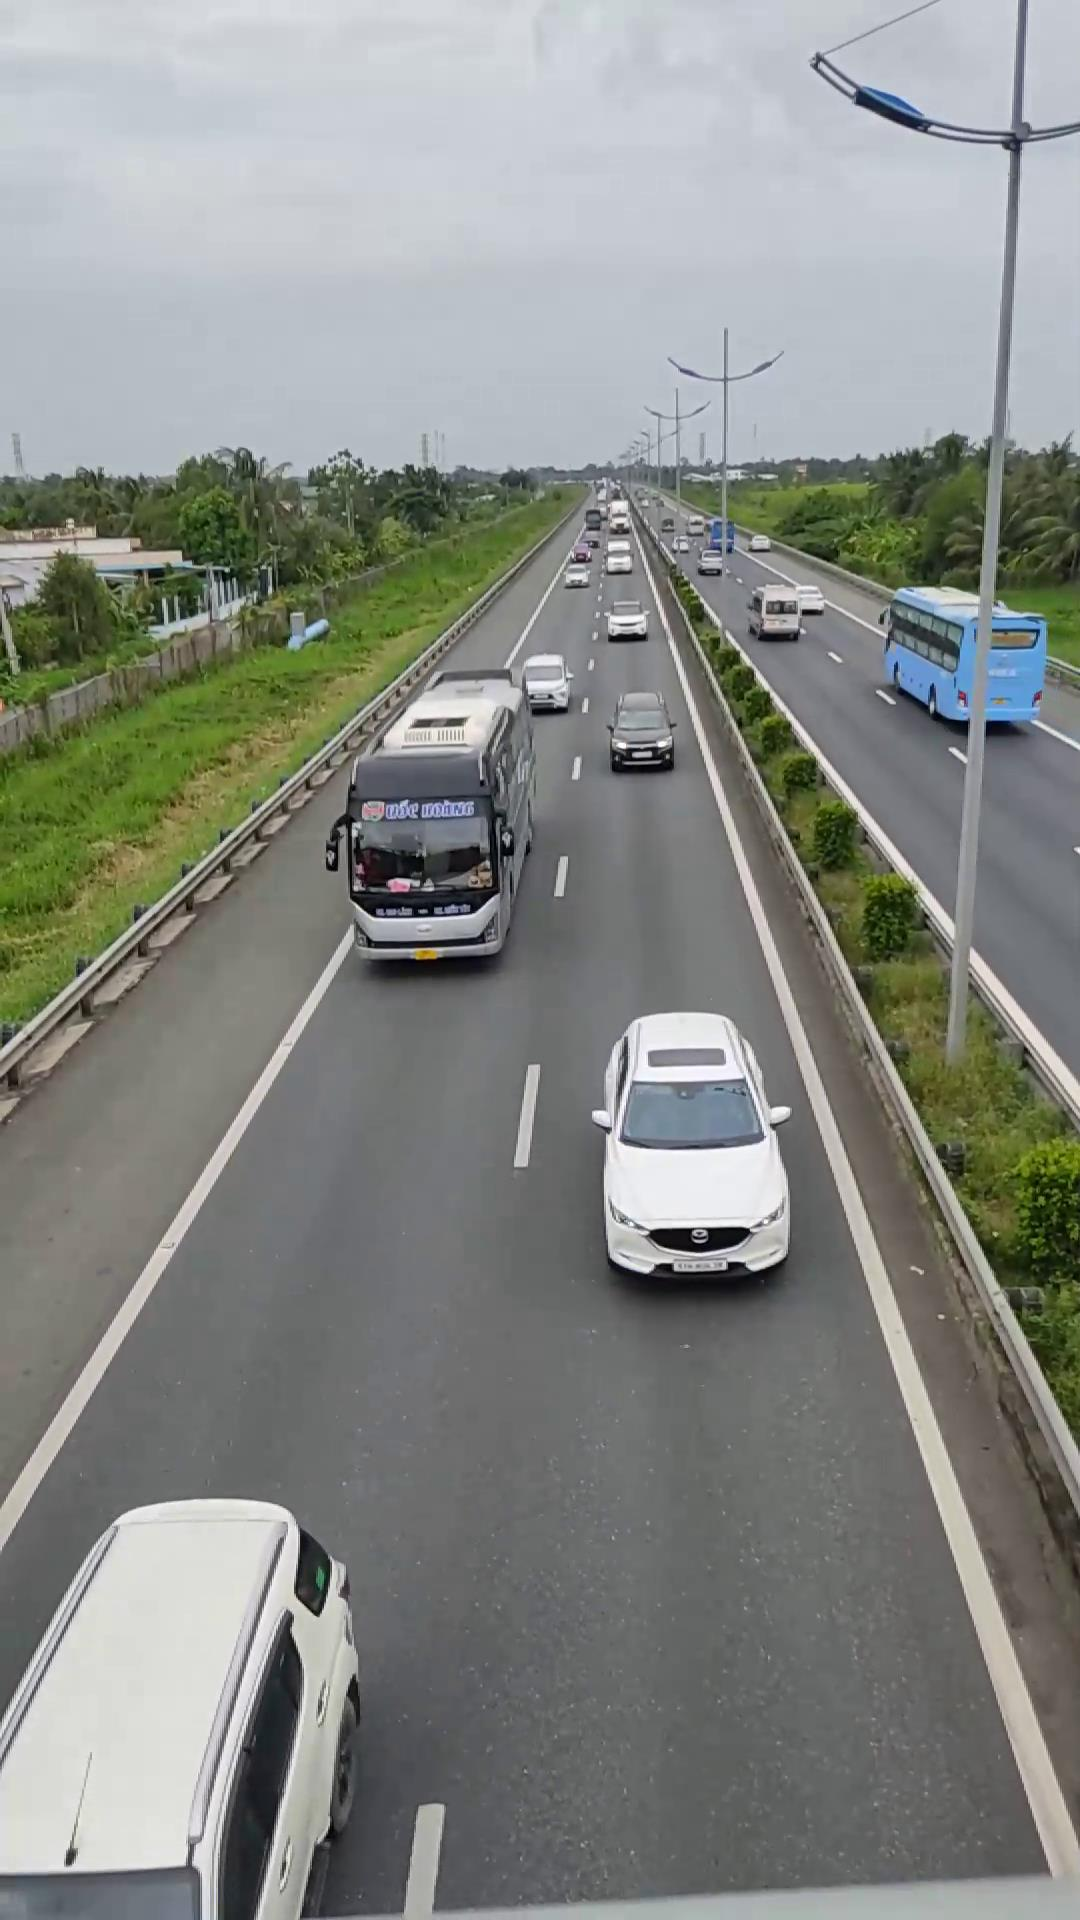bus: (334, 663, 535, 967)
car: (0, 1495, 367, 1916), (589, 1007, 794, 1284), (605, 691, 679, 770)
